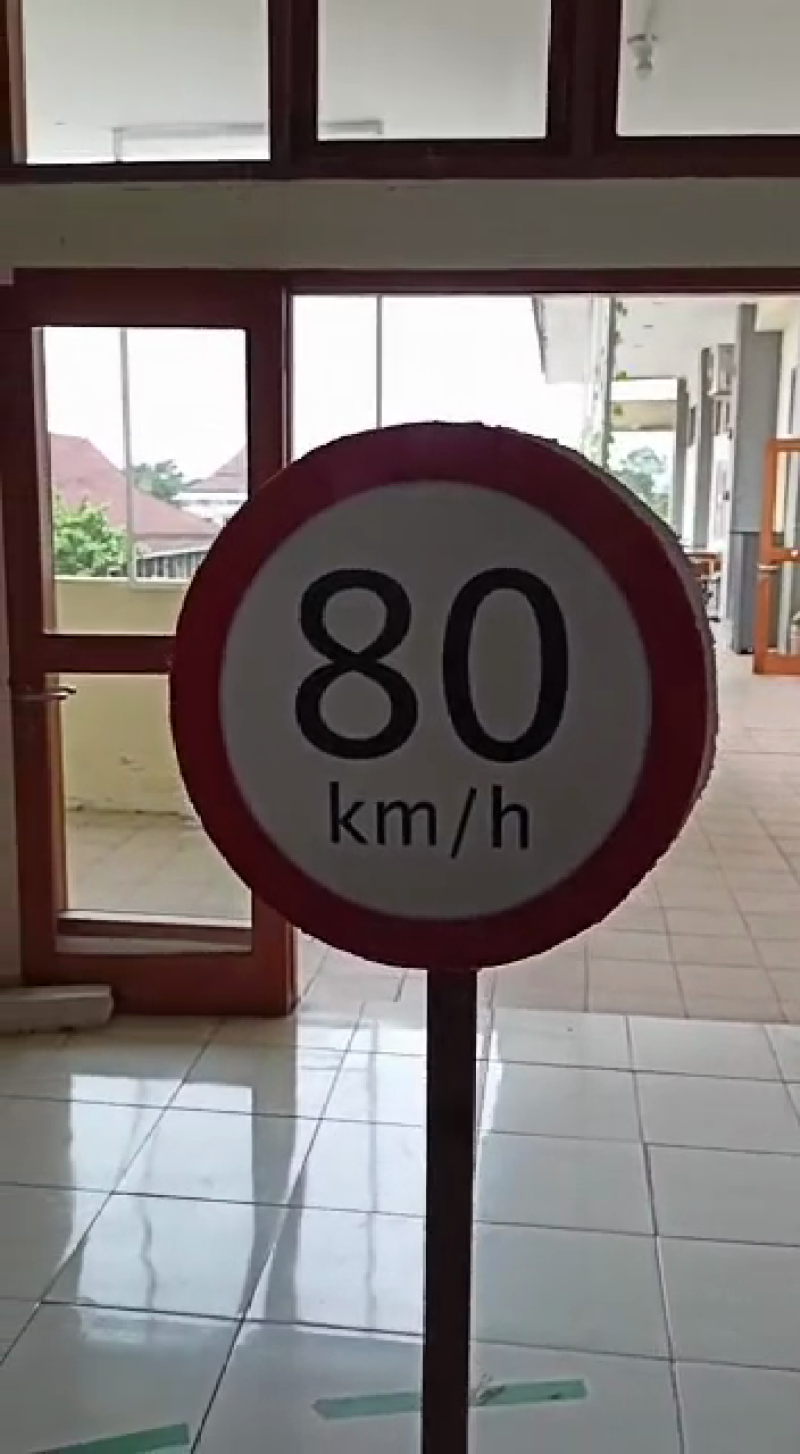batas maksimal 80kmperjam: (155, 412, 715, 970)
